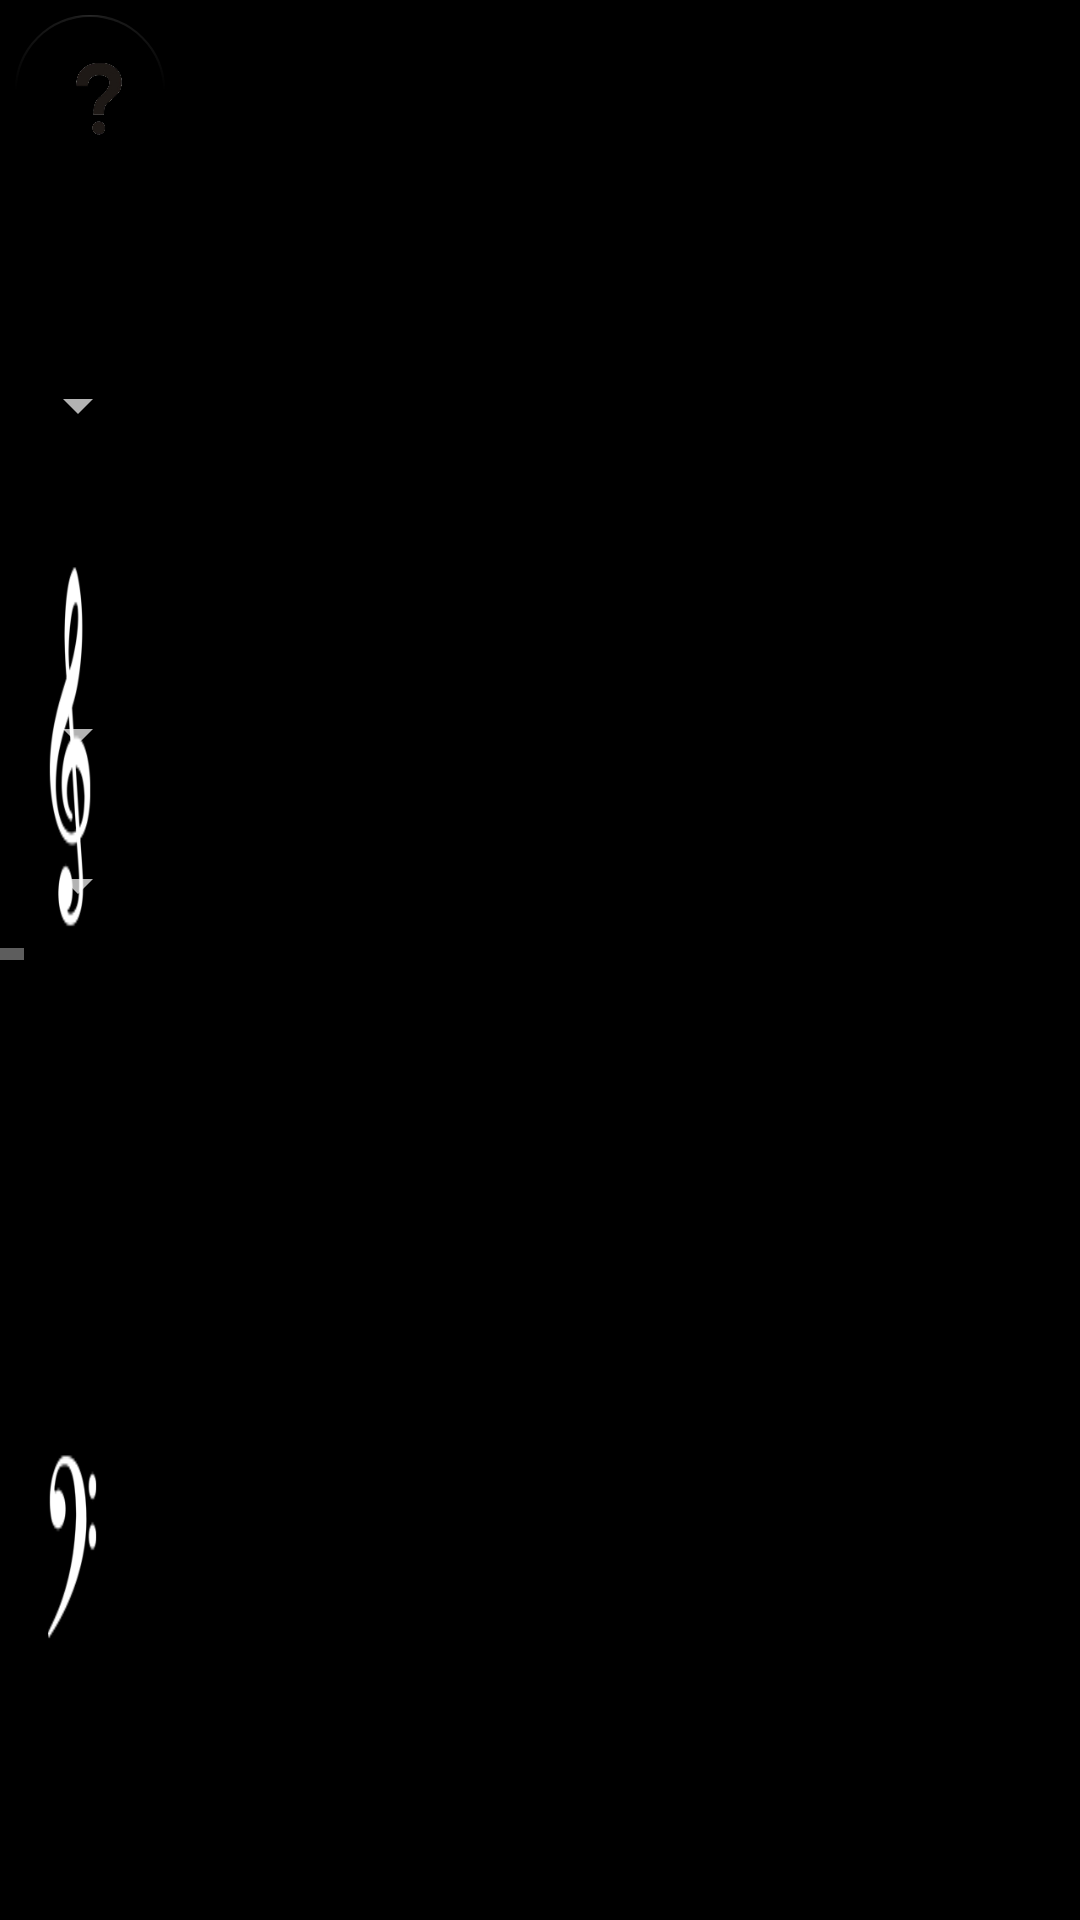

Named icons in this screenshot (1080x1920) and their bounding boxes, (x1, y1, x2, y2):
how to use: (63, 15, 122, 135)
